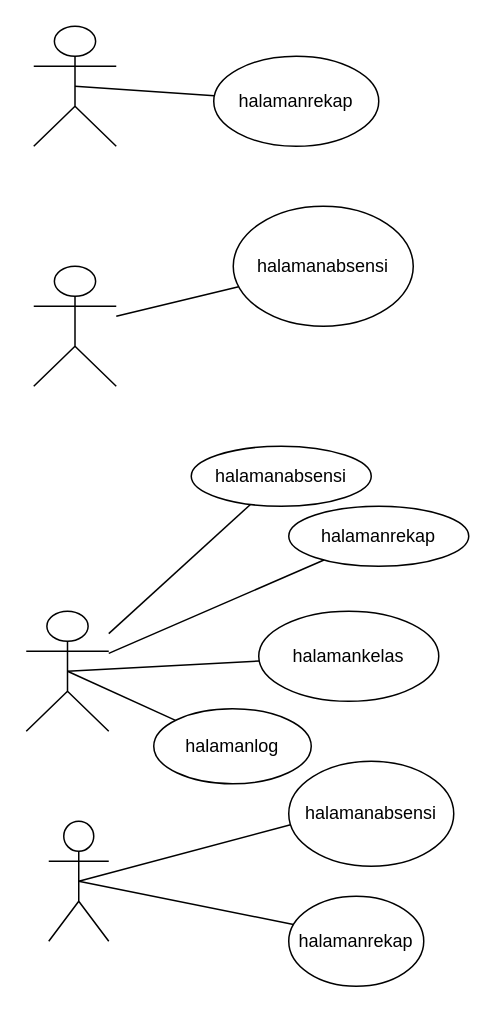
Some shapes in this 495 by 1013 pixel diagram are drawn without their labels. Here are the shapes that lost their labels. From the top down, the centre of each, then its label:
At [74,85]: "siswa".
At [74,325]: "piket".
At [67,670]: "admin".
At [78,880]: "walikelas".
